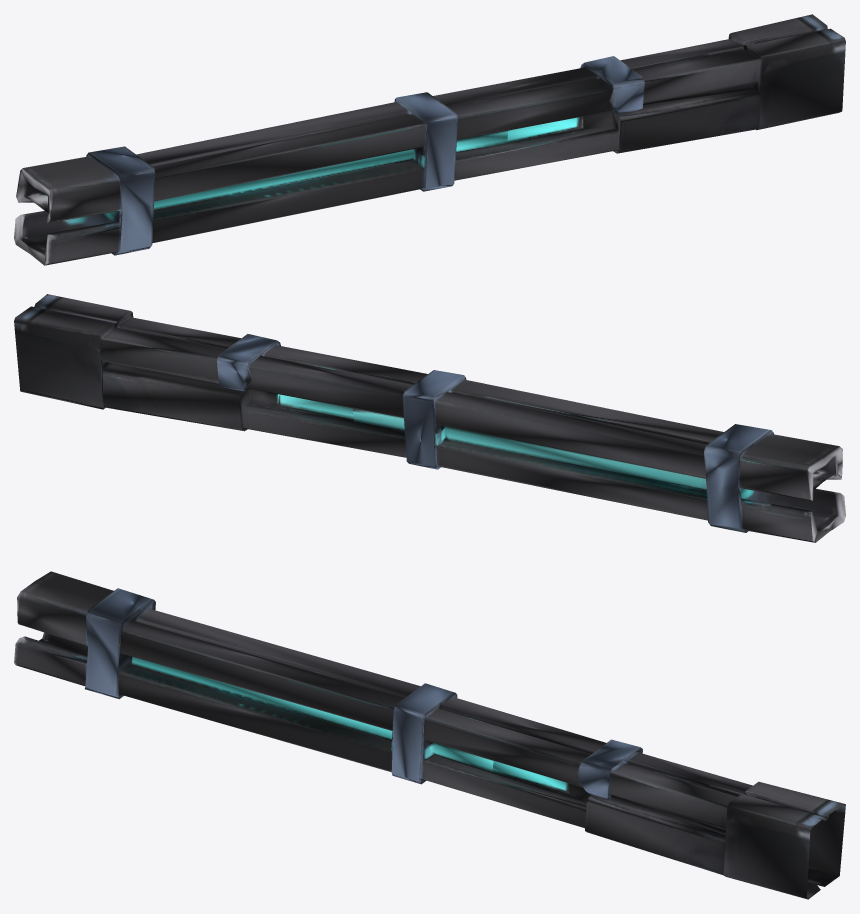
File: gun.glb
3 renders of one model, top to bottom at view 1: azimuth 30°, elevation 25°; view 2: azimuth 150°, elevation 25°; view 3: azimuth 330°, elevation 25°, orthographic.
Visible parts, largest first — view 1: Gun_Pivot_Centered; view 2: Gun_Pivot_Centered; view 3: Gun_Pivot_Centered.
Boxes of the visible parts, bbox=[...] form: Gun_Pivot_Centered: bbox=[14, 14, 845, 265]; Gun_Pivot_Centered: bbox=[14, 294, 845, 542]; Gun_Pivot_Centered: bbox=[14, 571, 845, 899].
Size of the model in its own units: 0.7515 by 0.104 by 0.0596.
Materials: 1 (1 with a texture image).
